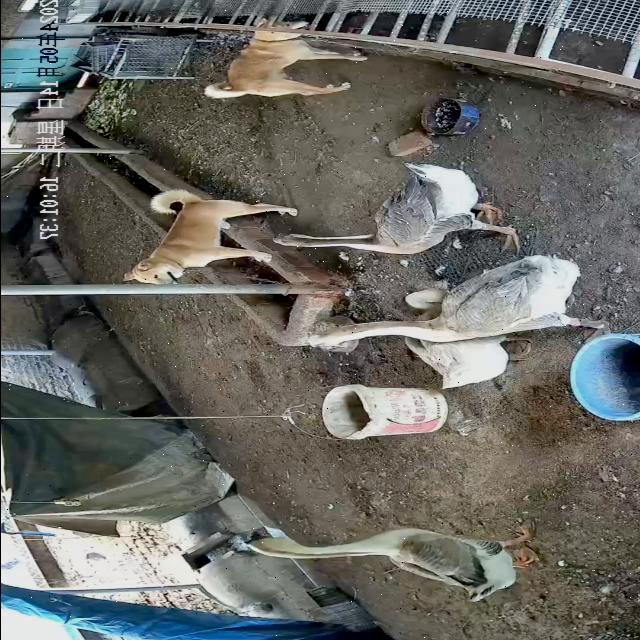dog: (121, 190, 299, 286), (203, 18, 369, 100)
